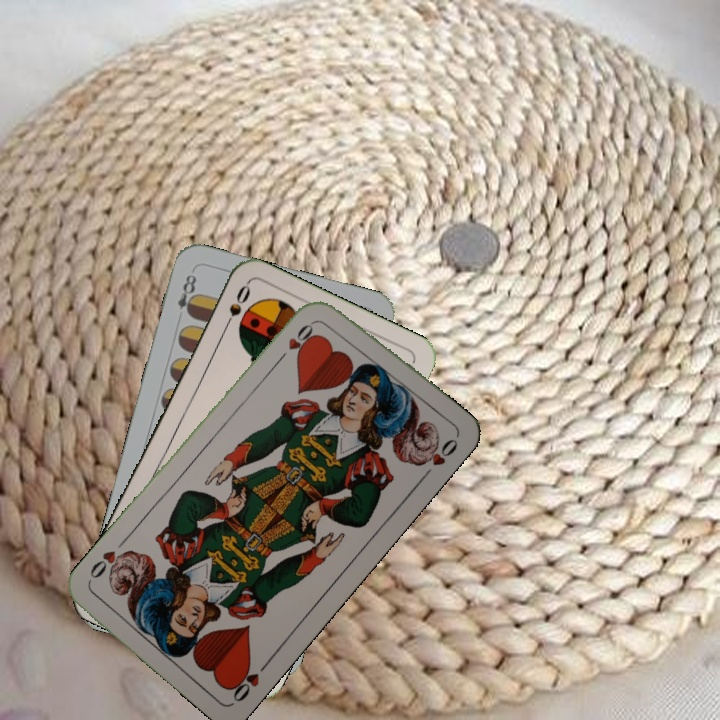E8: (173, 270, 200, 319)
HO: (225, 656, 273, 705), (274, 316, 320, 364)
SO: (218, 280, 253, 336)
